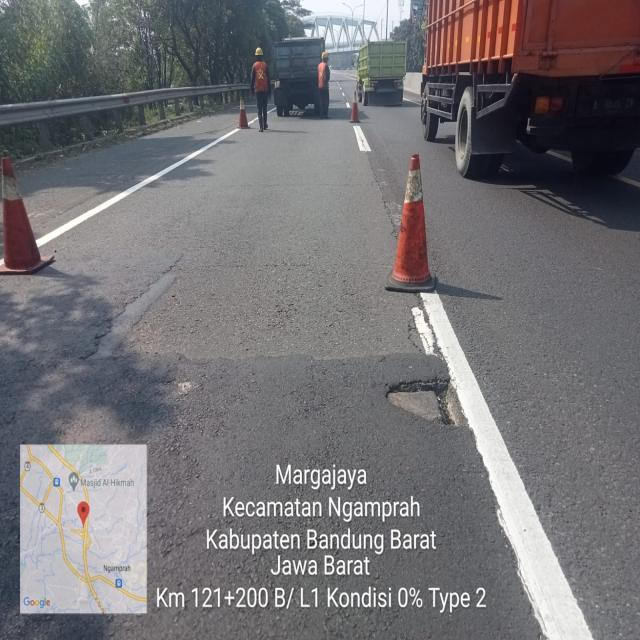Buraco: (381, 376, 469, 429)
